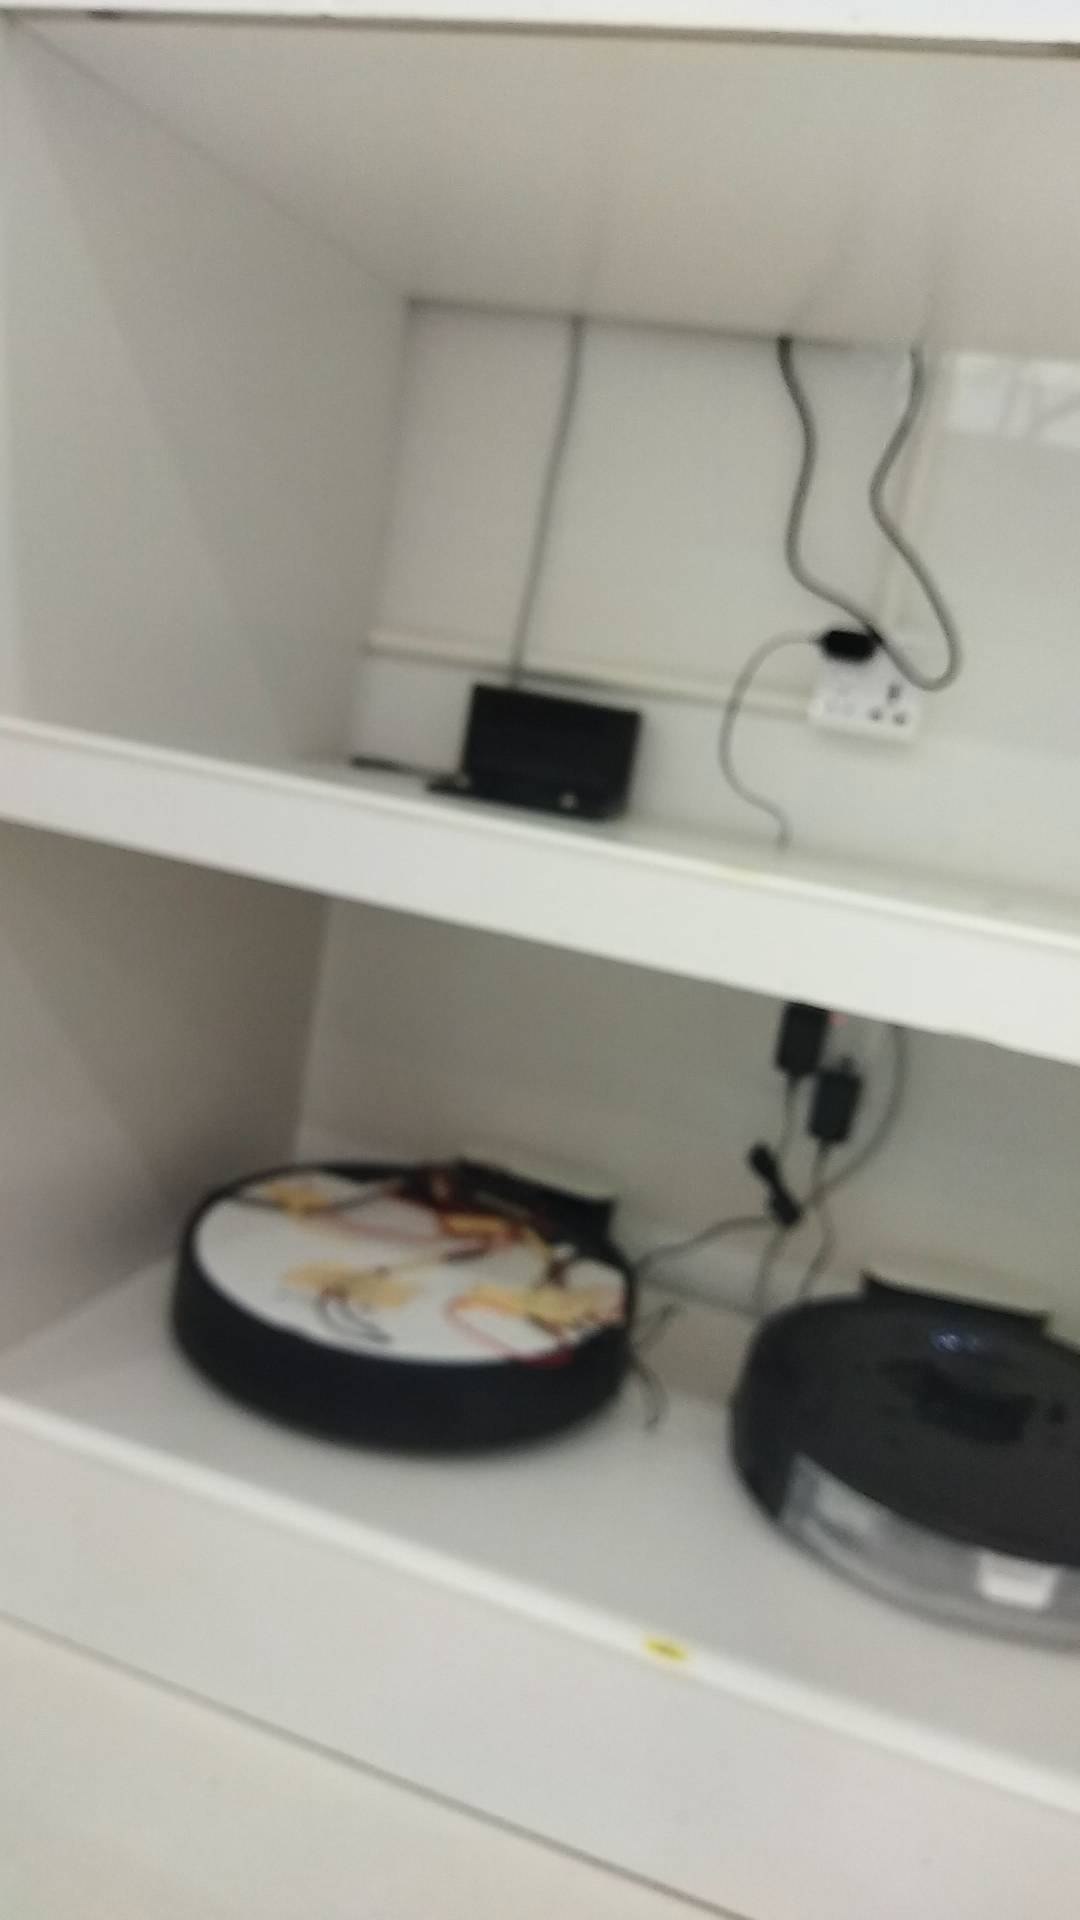recharge seat: (425, 678, 650, 822), (440, 1134, 626, 1230)
